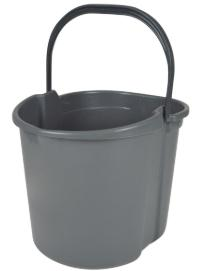SEAU: (0, 3, 188, 270)
